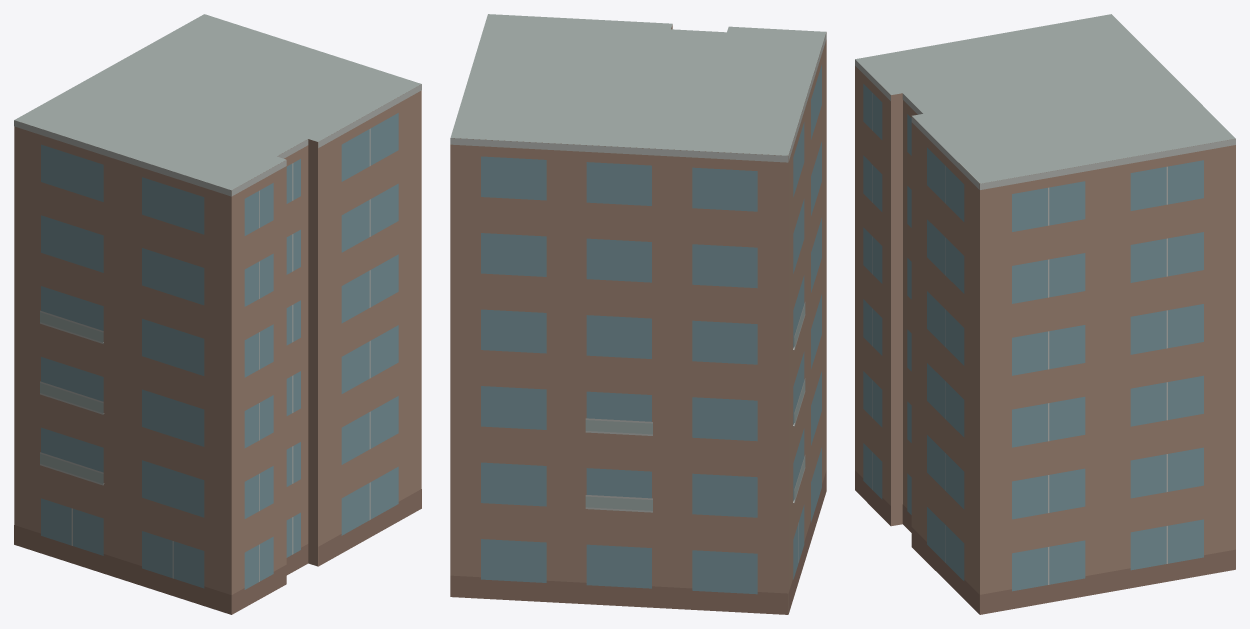
The model's file is survey-upis-32758485.glb.
The picture shows the model from 3 angles, left to right: view 1: azimuth 30°, elevation 25°; view 2: azimuth 150°, elevation 25°; view 3: azimuth 270°, elevation 25°; orthographic projection. The views are drawn at different scales.
Parts seen in each view (by area): view 1: survey-upis-32758485.tmp; view 2: survey-upis-32758485.tmp; view 3: survey-upis-32758485.tmp.
Boxes of the visible parts, bbox=[...] form: survey-upis-32758485.tmp: bbox=[14, 14, 421, 614]; survey-upis-32758485.tmp: bbox=[450, 14, 826, 614]; survey-upis-32758485.tmp: bbox=[855, 14, 1235, 614].
Size of the model in its own units: 13.95 by 16.5 by 13.22.
